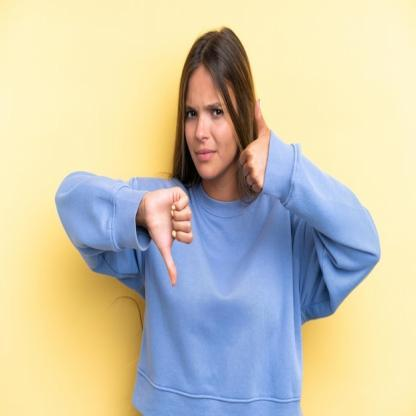thumb_down: (144, 184, 194, 289)
thumb_up: (235, 94, 277, 194)
